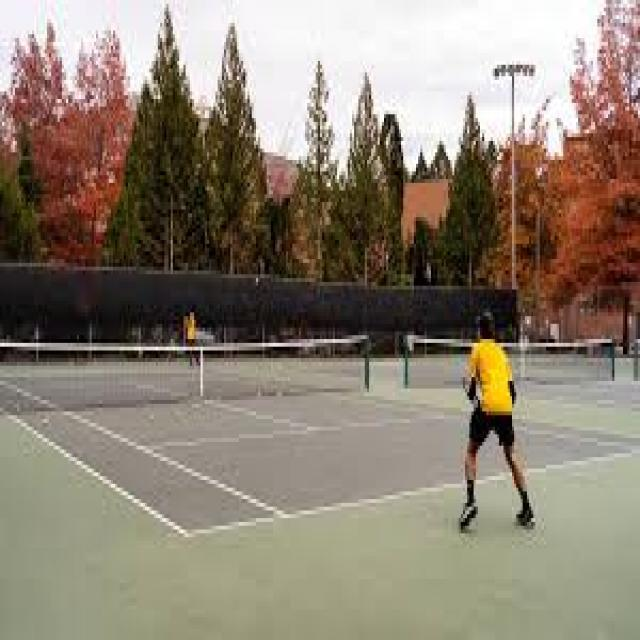court: (50, 376, 640, 636)
net: (0, 320, 376, 422)
player: (441, 297, 552, 558)
